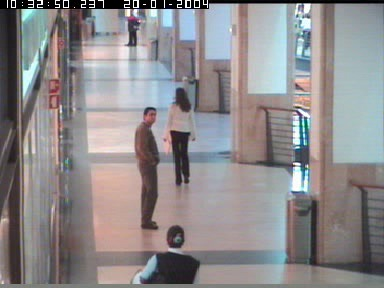person: (129, 224, 201, 284), (161, 86, 196, 185), (134, 106, 160, 229), (124, 16, 141, 46)
